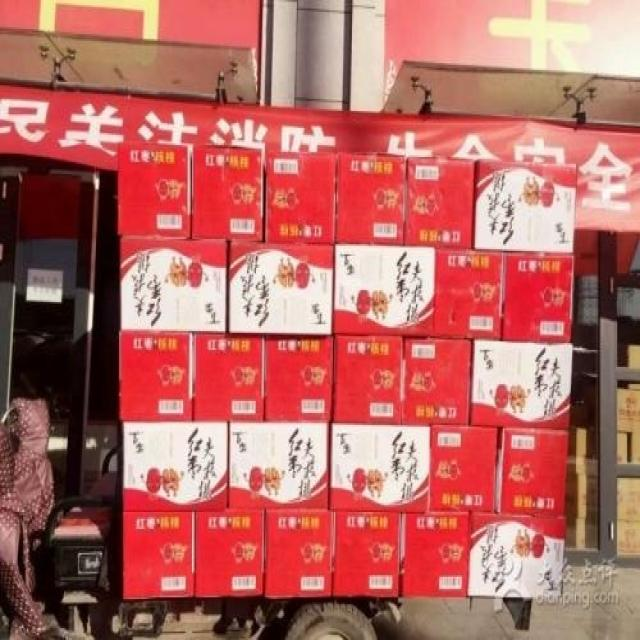box: (227, 239, 335, 336), (121, 235, 226, 332), (474, 161, 577, 253), (335, 244, 435, 337), (471, 341, 573, 431), (124, 421, 228, 509), (329, 423, 430, 513), (227, 423, 328, 511), (469, 515, 565, 601), (193, 144, 266, 241), (335, 151, 407, 247), (502, 252, 575, 345), (118, 143, 190, 237), (119, 331, 194, 421), (266, 151, 337, 245), (404, 157, 475, 248), (495, 428, 568, 516), (194, 333, 265, 423), (333, 334, 404, 424), (433, 249, 504, 339), (401, 336, 472, 425), (265, 333, 334, 424), (194, 509, 264, 596), (265, 333, 333, 422), (332, 513, 403, 598), (264, 511, 333, 598), (429, 426, 498, 513), (123, 513, 194, 597), (402, 513, 470, 597)
